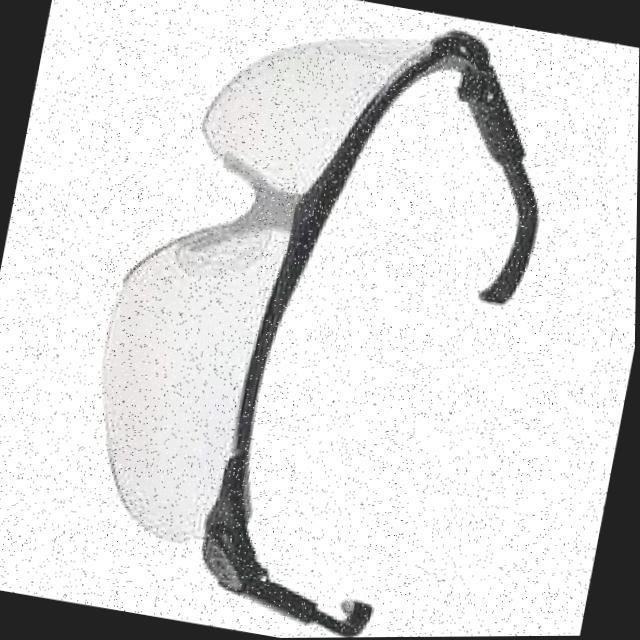goggles_on: (44, 0, 580, 640)
